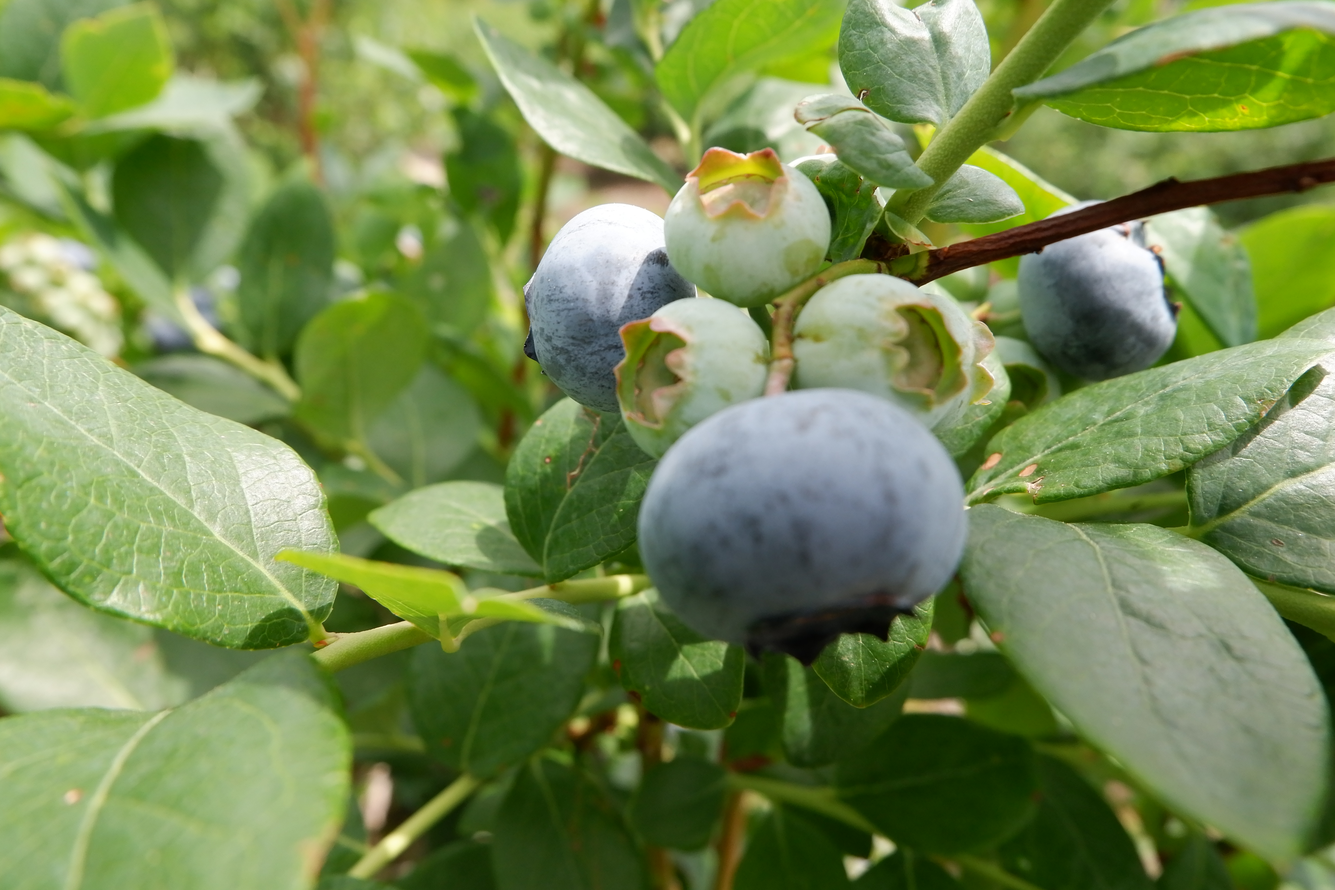Immature: (793, 273, 966, 431), (666, 153, 828, 303), (620, 298, 769, 453), (923, 294, 997, 433)
Mature: (635, 394, 966, 668), (524, 206, 687, 408), (1019, 200, 1174, 380)
